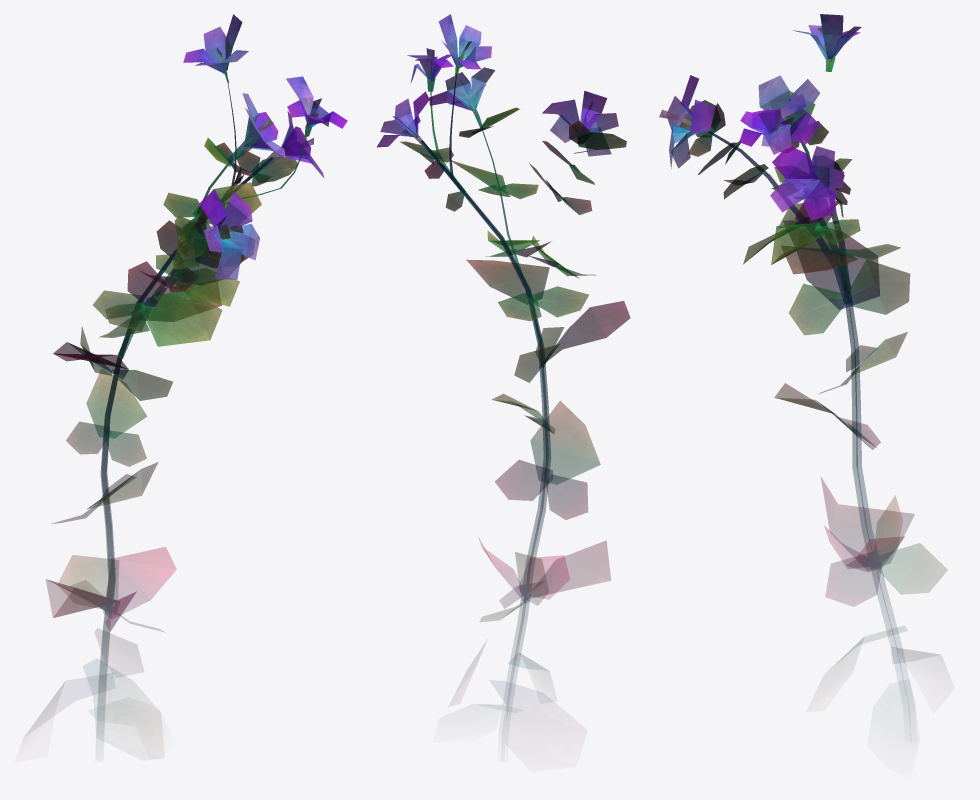
File: periwinkles-transformed.glb
3 views of the same model, side by side, from view 1: azimuth 30°, elevation 25°; view 2: azimuth 150°, elevation 25°; view 3: azimuth 270°, elevation 25° (orthographic). The views are drawn at different scales.
Parts seen in each view (by area): view 1: SM_tfclbger_VarB_LOD1; view 2: SM_tfclbger_VarB_LOD1; view 3: SM_tfclbger_VarB_LOD1.
Boxes of the visible parts, x1,y1,x2,y2 form: SM_tfclbger_VarB_LOD1: [25, 14, 347, 742]; SM_tfclbger_VarB_LOD1: [377, 14, 630, 740]; SM_tfclbger_VarB_LOD1: [659, 14, 947, 733].
Size of the model in its own units: 0.4547 by 1.3 by 0.4497.
1 material, 1 textured.
